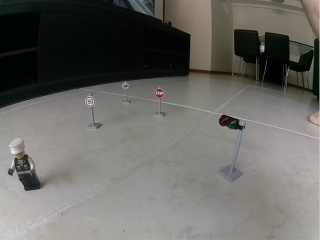Green Traffic Light: (218, 113, 246, 183)
Person: (6, 137, 43, 191)
Speed Limit 30: (121, 81, 130, 90)
Speed Limit 50: (85, 96, 96, 107)
Stop Sign: (155, 89, 163, 98)
